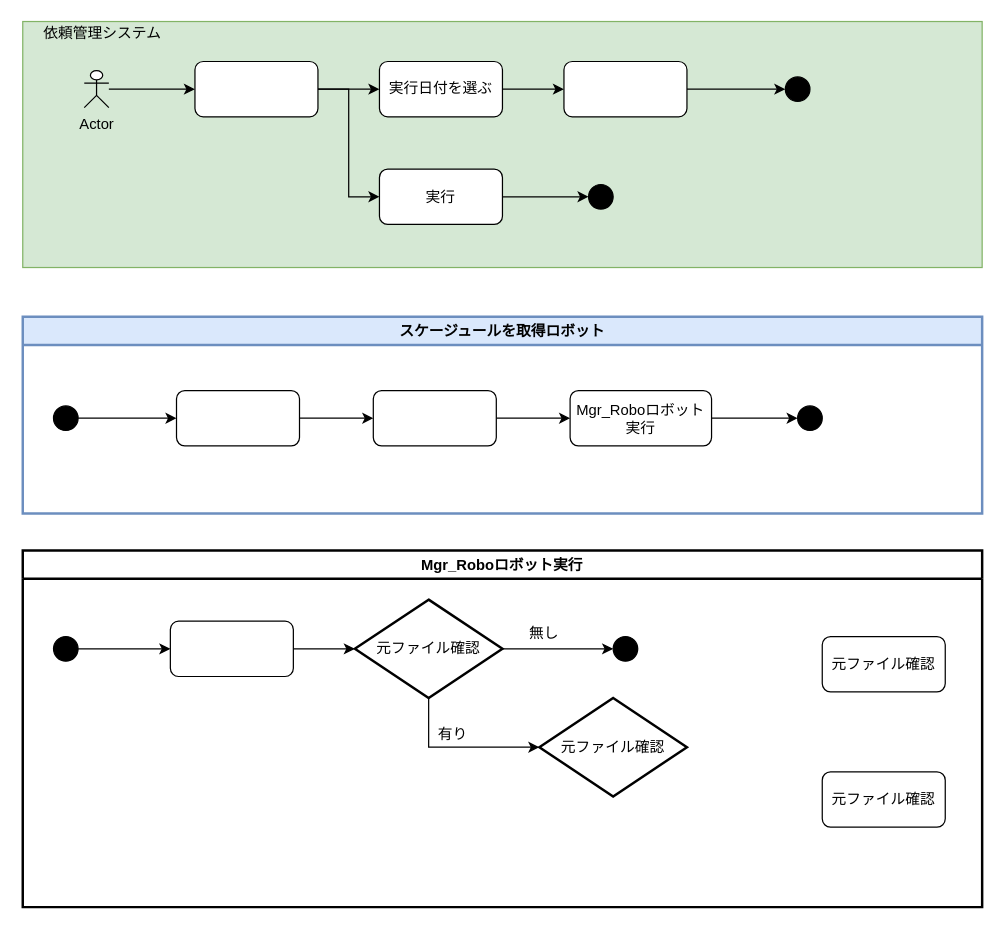
The diagram is 1004 pixels wide and 930 high, and some of its shapes have lost their labels. The box of each missing label's shape, as (x1, y1, x2, y2) in pixels:
スケージュールを取得: (175, 389, 300, 446)
ロボットIDを確認: (169, 620, 293, 676)
保存: (563, 60, 687, 117)
元ファイル ダウンロード: (372, 389, 496, 446)
元ファイルアップ: (194, 60, 318, 117)
